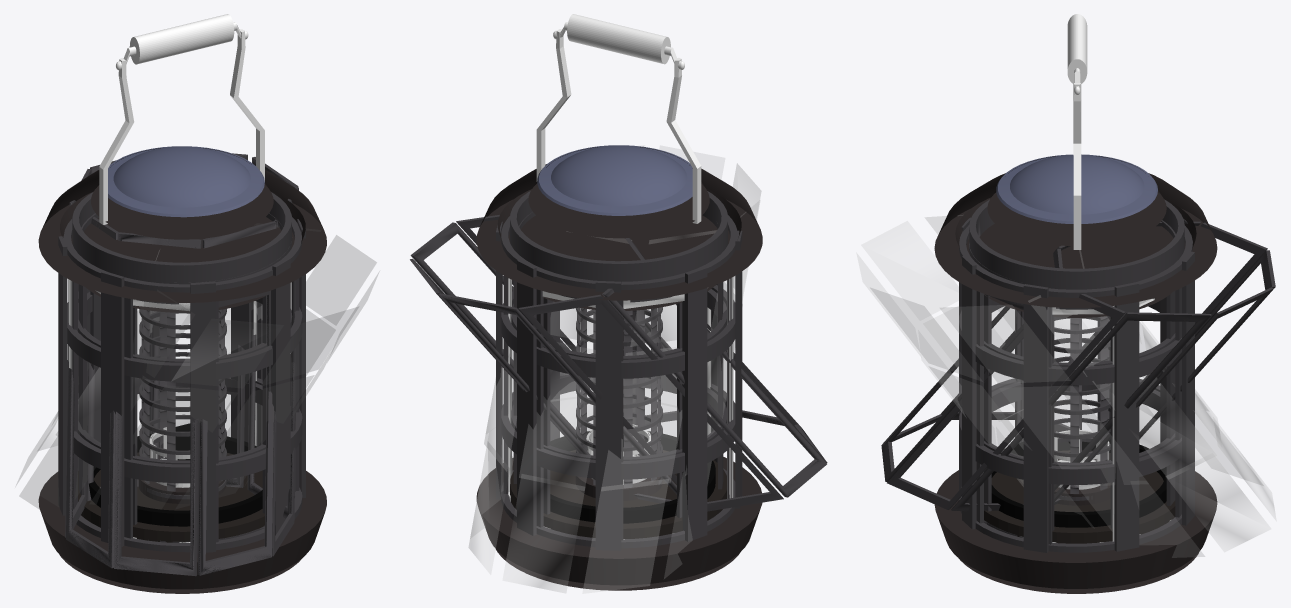
Rendered from lantern.glb.
The picture shows the model from 3 angles, left to right: view 1: azimuth 30°, elevation 25°; view 2: azimuth 150°, elevation 25°; view 3: azimuth 270°, elevation 25°; orthographic projection.
Parts seen in each view (by area): view 1: body, glass, frame, fire_mesh, inside_base, handle.001, handle; view 2: body, glass, frame, fire_mesh, inside_base, handle.001, handle; view 3: body, glass, frame, inside_base, fire_mesh, handle.001, handle.
Boxes of the visible parts, left/top/right/bottom form: body: left=38, top=146, right=326, bottom=593; glass: left=16, top=223, right=378, bottom=509; frame: left=65, top=153, right=298, bottom=576; fire_mesh: left=139, top=308, right=226, bottom=499; inside_base: left=78, top=427, right=264, bottom=542; handle.001: left=99, top=22, right=264, bottom=224; handle: left=129, top=14, right=234, bottom=64; body: left=476, top=145, right=762, bottom=590; glass: left=469, top=145, right=761, bottom=593; frame: left=410, top=215, right=827, bottom=511; fire_mesh: left=576, top=307, right=662, bottom=488; inside_base: left=510, top=424, right=726, bottom=538; handle.001: left=536, top=22, right=701, bottom=223; handle: left=567, top=14, right=670, bottom=64; body: left=934, top=154, right=1217, bottom=593; glass: left=857, top=215, right=1276, bottom=557; frame: left=881, top=221, right=1275, bottom=511; inside_base: left=984, top=428, right=1175, bottom=543; fire_mesh: left=1054, top=316, right=1110, bottom=500; handle.001: left=1073, top=68, right=1081, bottom=249; handle: left=1067, top=14, right=1087, bottom=83.
Bounding box in the file's own units: 0.1632 × 0.2814 × 0.2128.
